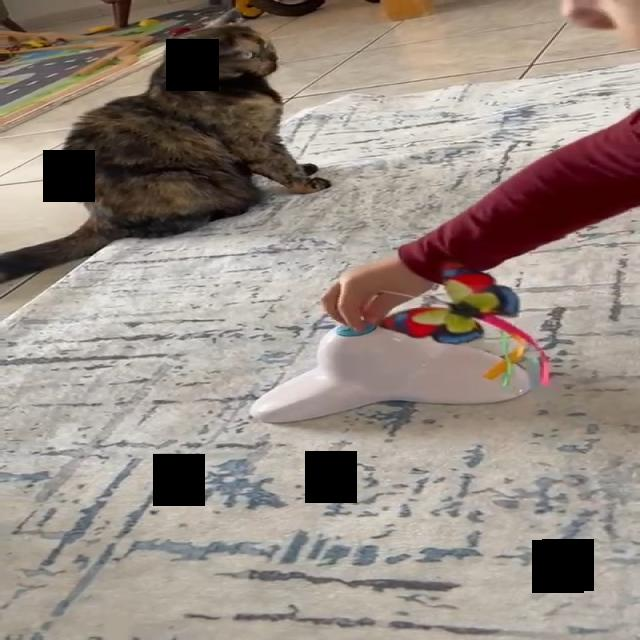authorized: (0, 12, 331, 284)
